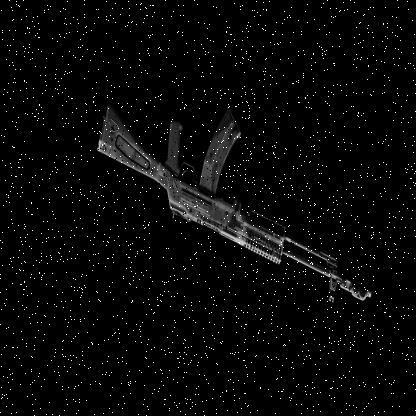rifle: (78, 44, 393, 332)
